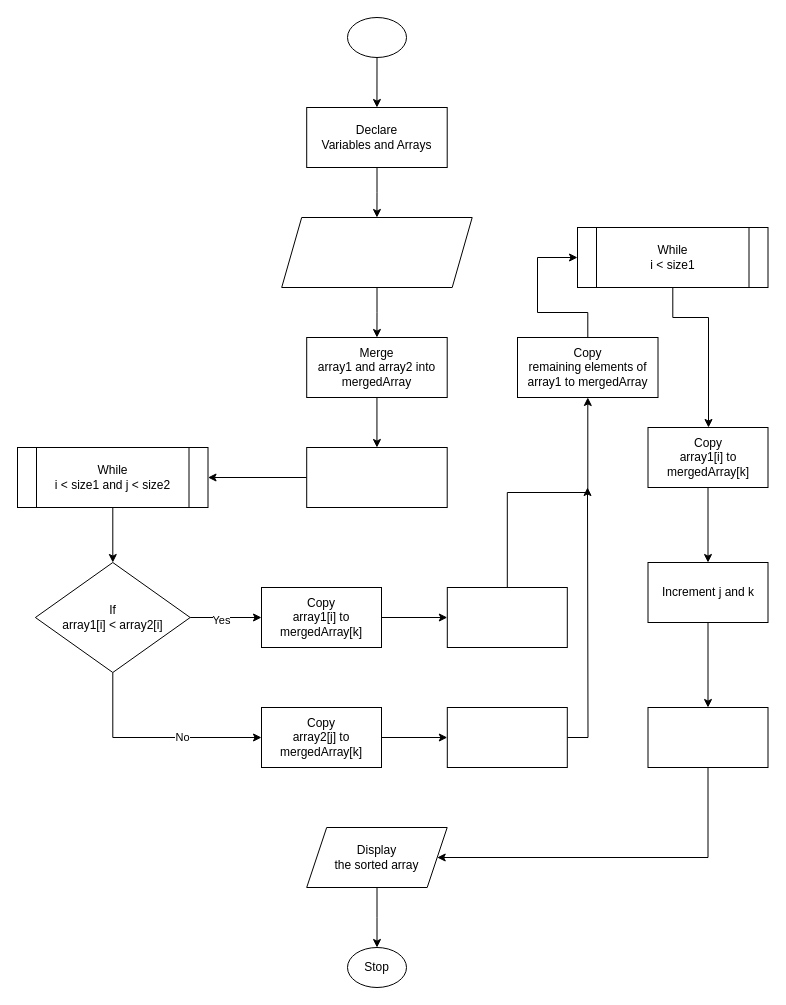
This 786x1005 diagram has some shape labels left out. Each missing label, with the centre of its shape:
"Increment i" goes at point (506, 617).
"Increment j" goes at point (506, 737).
"Initialise index variables i, j and k to 0" goes at point (376, 477).
"Input Size & Elements of array1 Size & Elements of array2" goes at point (376, 252).
"Sort mergedArray in ascending order" goes at point (707, 737).
"Start" goes at point (376, 37).
